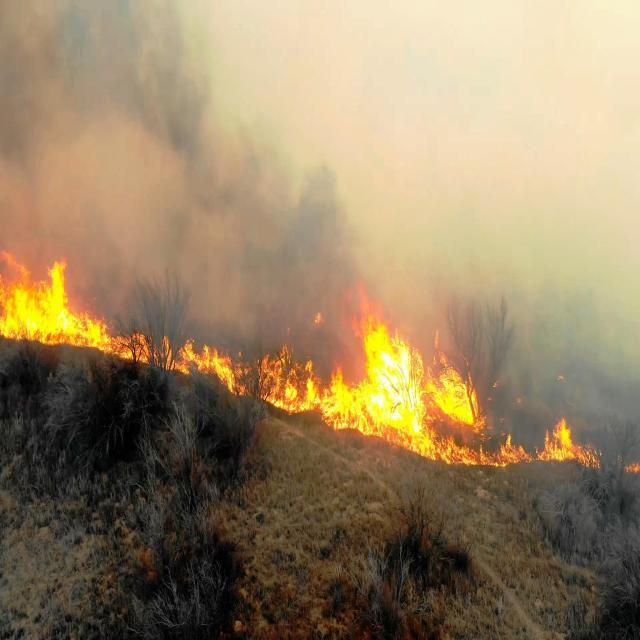Fire: (260, 320, 494, 466), (0, 262, 248, 398), (485, 418, 640, 468)
Smoke: (0, 0, 640, 259), (363, 263, 640, 327), (100, 264, 364, 326), (478, 337, 640, 425)
